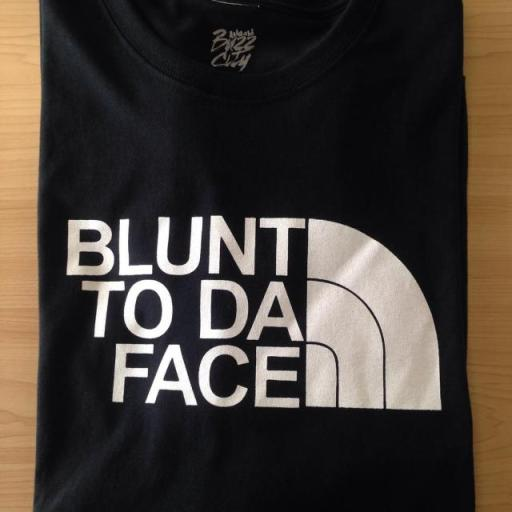The North Face: (304, 210, 449, 419)
